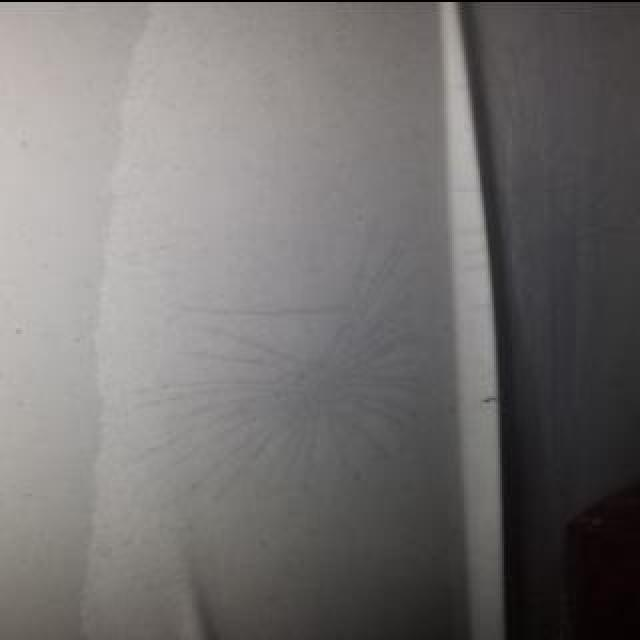crack: (137, 219, 421, 501), (183, 304, 331, 318)
